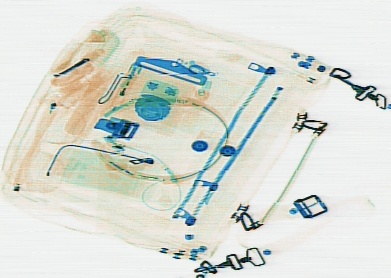lighter: (101, 59, 143, 115)
